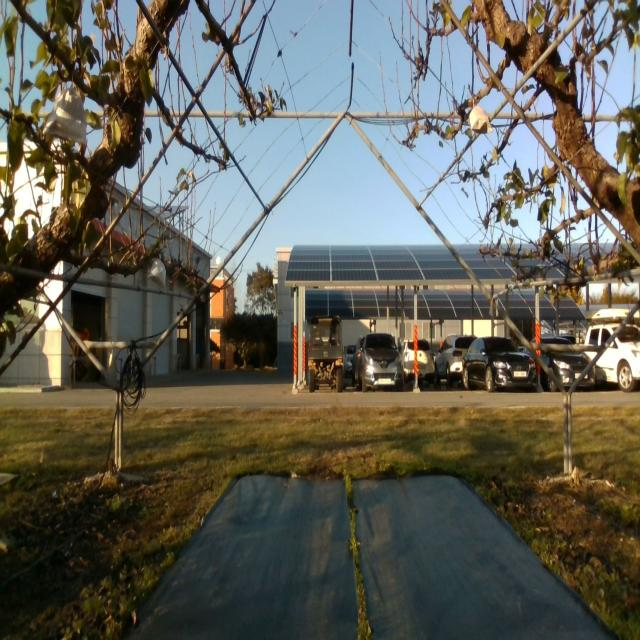pearbags: (44, 83, 86, 146), (470, 98, 492, 134), (148, 254, 166, 290)
